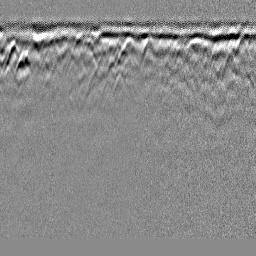cavity: (120, 35, 137, 55)
